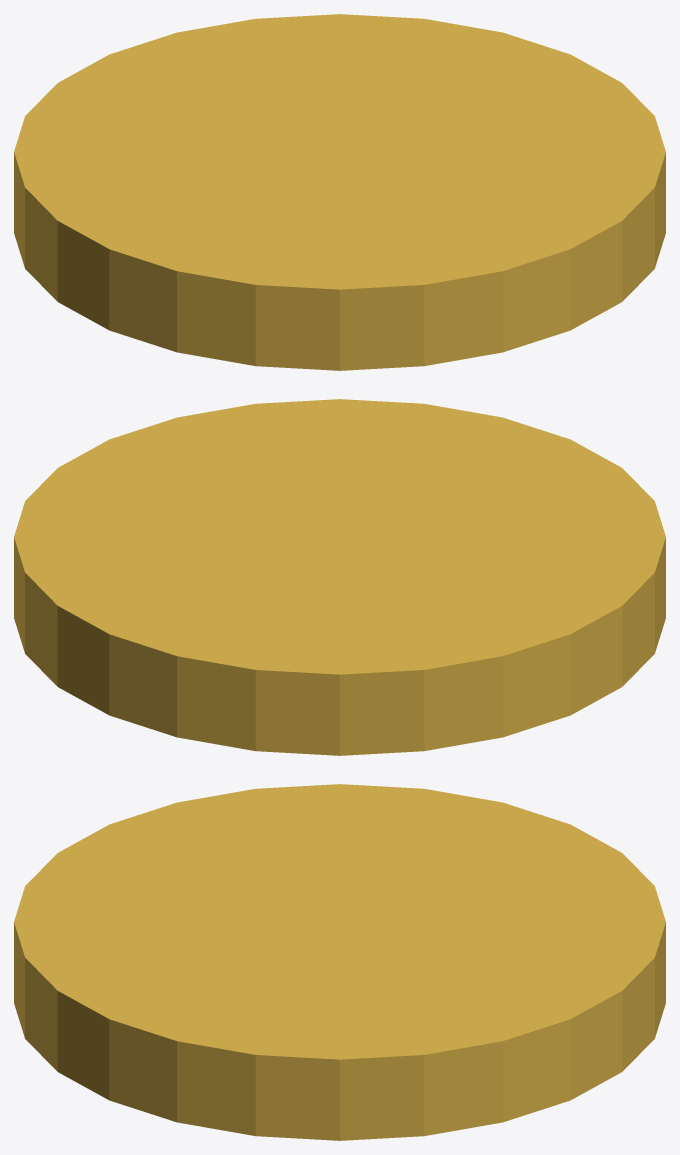
Rendered from coin.glb.
3 renders of one model, top to bottom at view 1: azimuth 30°, elevation 25°; view 2: azimuth 150°, elevation 25°; view 3: azimuth 270°, elevation 25°, orthographic.
Visible parts, largest first — view 1: Coin; view 2: Coin; view 3: Coin.
Part boxes in pixels (x1,y1,x2,y2): Coin: (14, 14, 665, 370); Coin: (14, 399, 665, 755); Coin: (14, 784, 665, 1140).
Bounding box in the file's own units: 0.016 × 0.0022 × 0.016.
